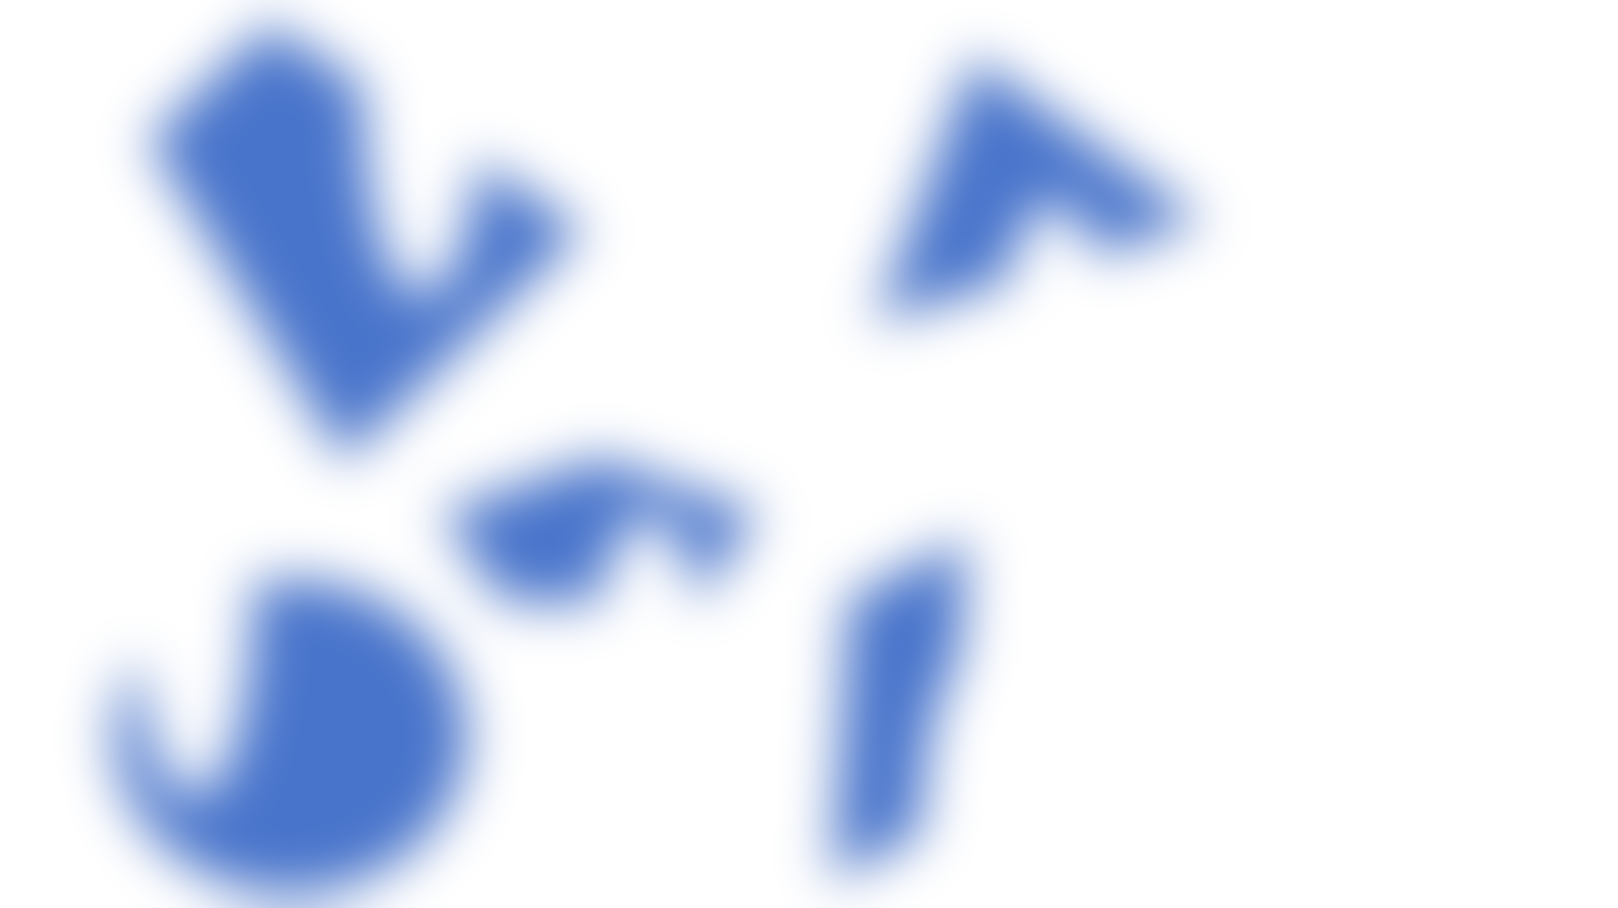circle: (61, 572, 496, 908)
parallelogram: (790, 531, 1007, 878)
pentagon: (418, 428, 770, 643)
trapezium: (130, 22, 605, 469)
triangle: (860, 24, 1213, 338)
